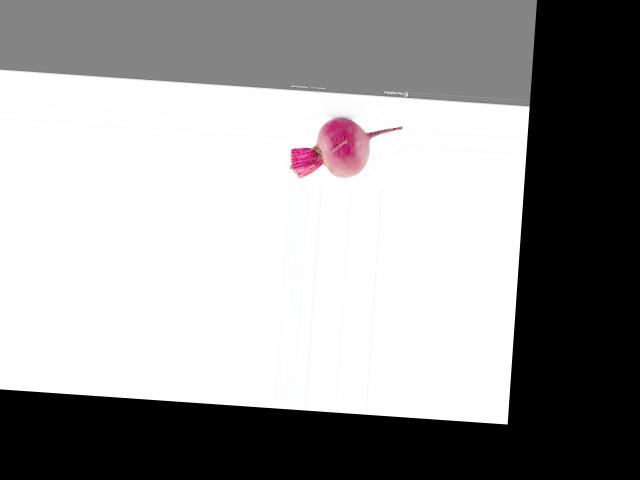beet: (288, 114, 402, 183)
